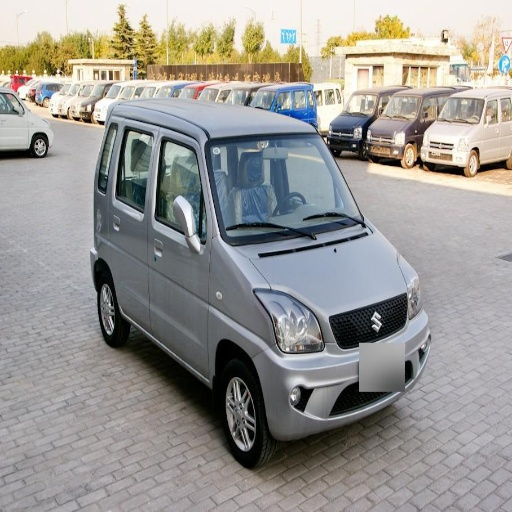front_bumper: (256, 293, 431, 437)
front_right_door: (148, 133, 210, 373)
front_right_light: (256, 291, 324, 354)
